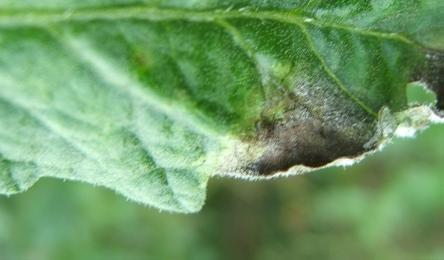Tomato leaf late blight: (0, 0, 444, 236)
